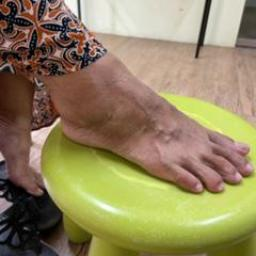Lateral View -Right Foot-: (33, 32, 255, 212)
